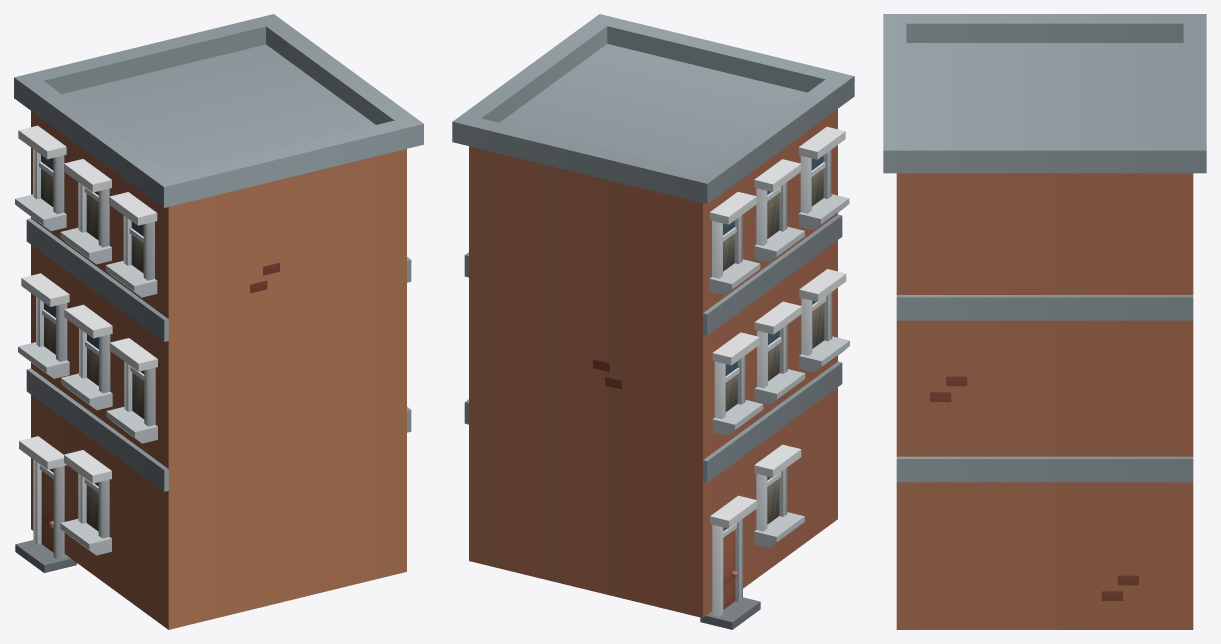
File: marron 1.fbx
3 views of the same model, side by side, from view 1: azimuth 30°, elevation 25°; view 2: azimuth 150°, elevation 25°; view 3: azimuth 270°, elevation 25° (orthographic). The views are drawn at different scales.
Visible parts, largest first — view 1: building_C_withoutBase.003; view 2: building_C_withoutBase.003; view 3: building_C_withoutBase.003.
Part boxes in pixels (<box>): building_C_withoutBase.003: <box>14,14,423,629</box>; building_C_withoutBase.003: <box>452,14,854,629</box>; building_C_withoutBase.003: <box>883,14,1206,629</box>.
Bounding box in the file's own units: 1369 × 2221 × 1308.
Materials: 1 (1 with a texture image).
